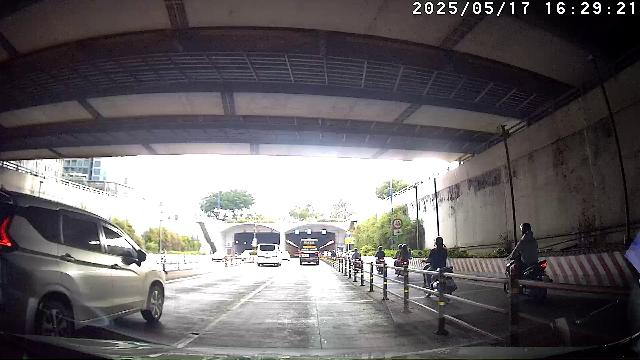127-toc-do-toi-da-40: (392, 218, 403, 229)
